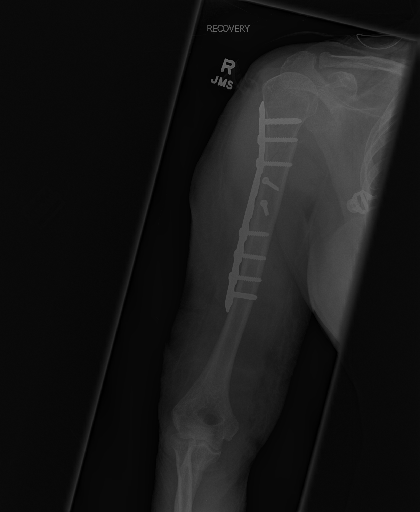implant: (224, 98, 301, 311)
